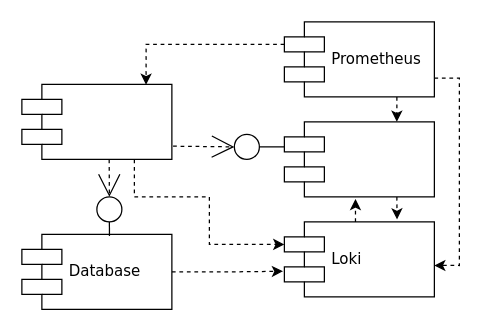
Image size: 491x331. Some labels were removed from this diagram. Each missing label, with the box of its shape:
Grafana: (283, 121, 434, 197)
MiniTwit App: (21, 83, 172, 159)
